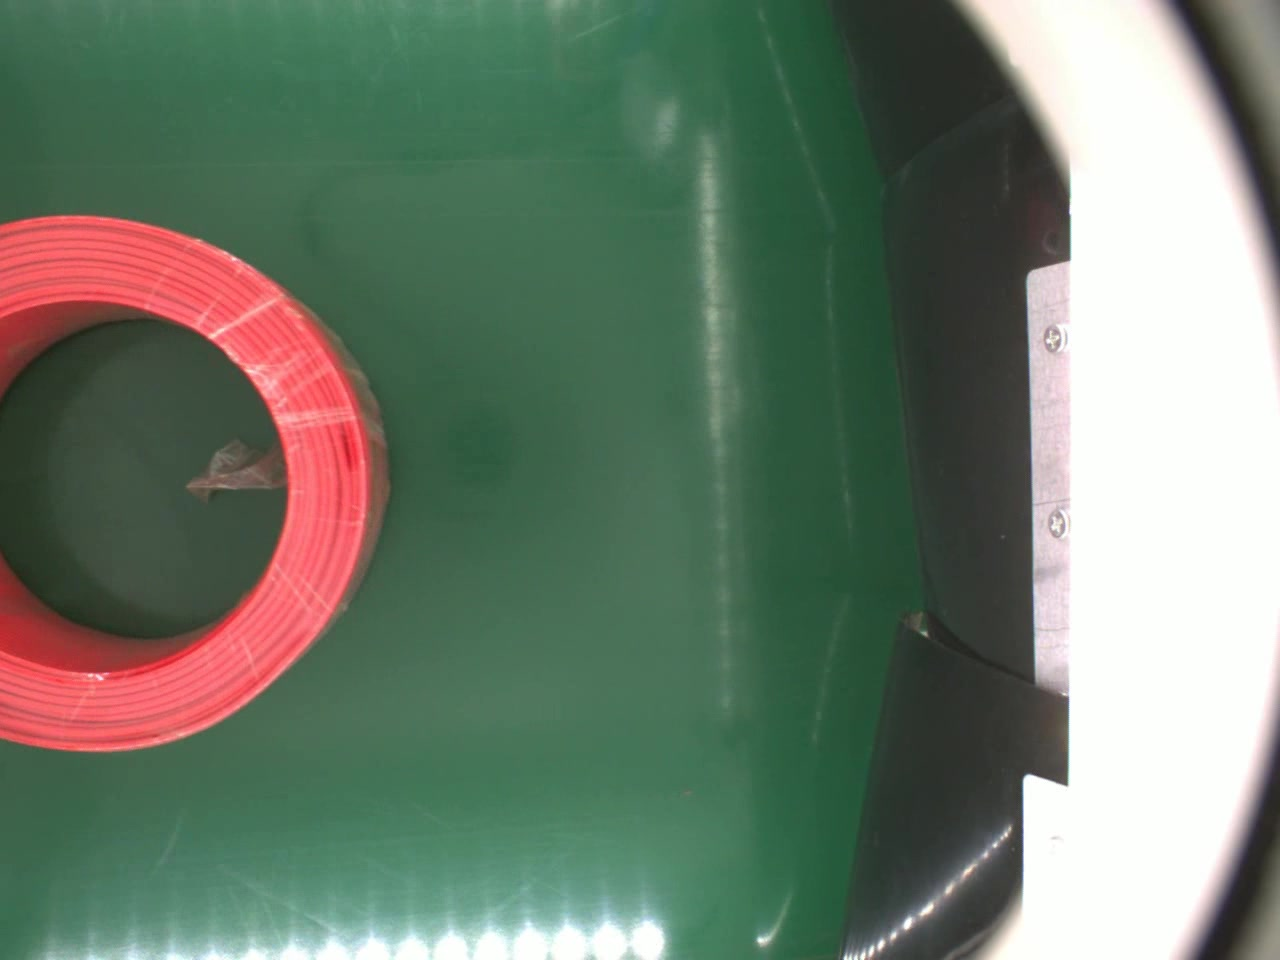red: (0, 217, 395, 748)
